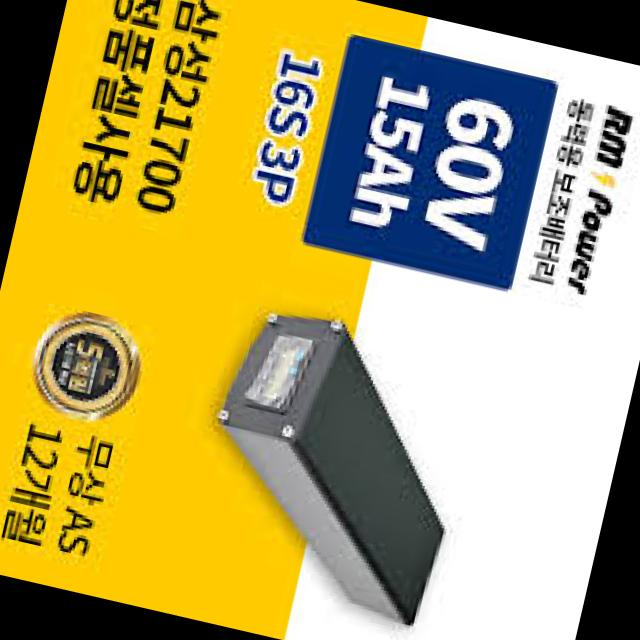portable-charger: (172, 298, 490, 630)
